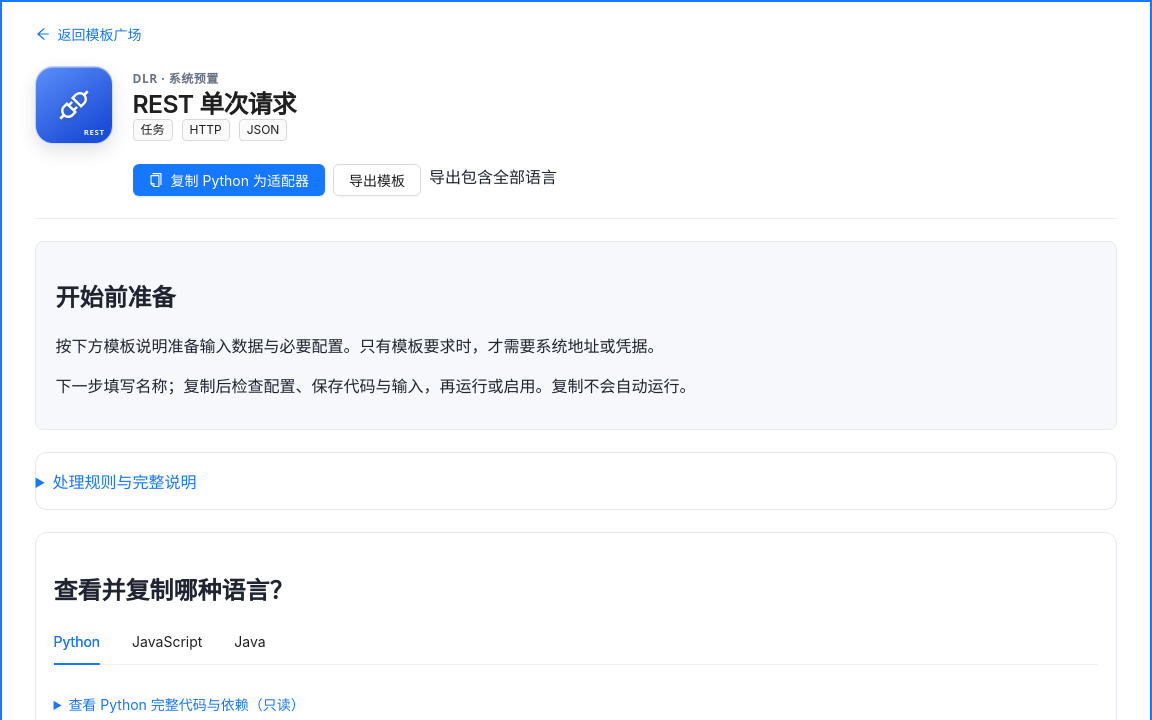
Scenario: Scenario detail and copy › keeps entered values after a general instantiate failure
The width and height of the screenshot is (1152, 720).
Click the button "复制 Python 为适配器" at [229, 180], box [132, 164, 325, 196]
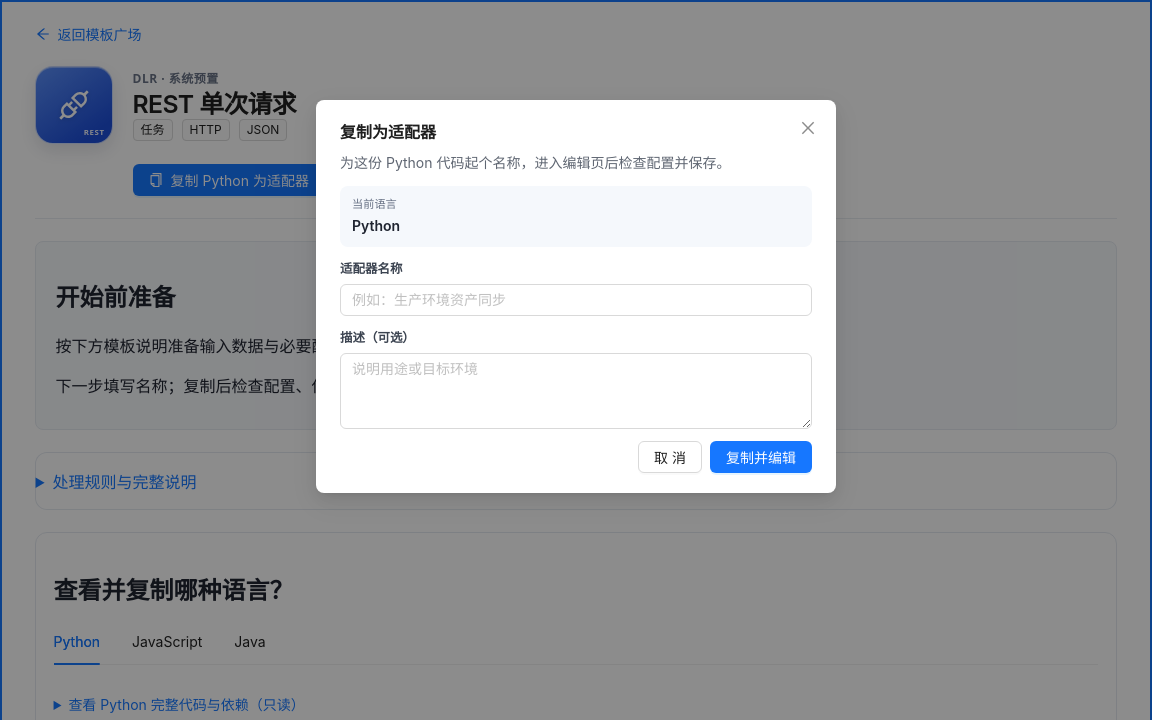
Type "稍后重试" into the field labelled "适配器名称" at [576, 300], box [340, 284, 812, 316]
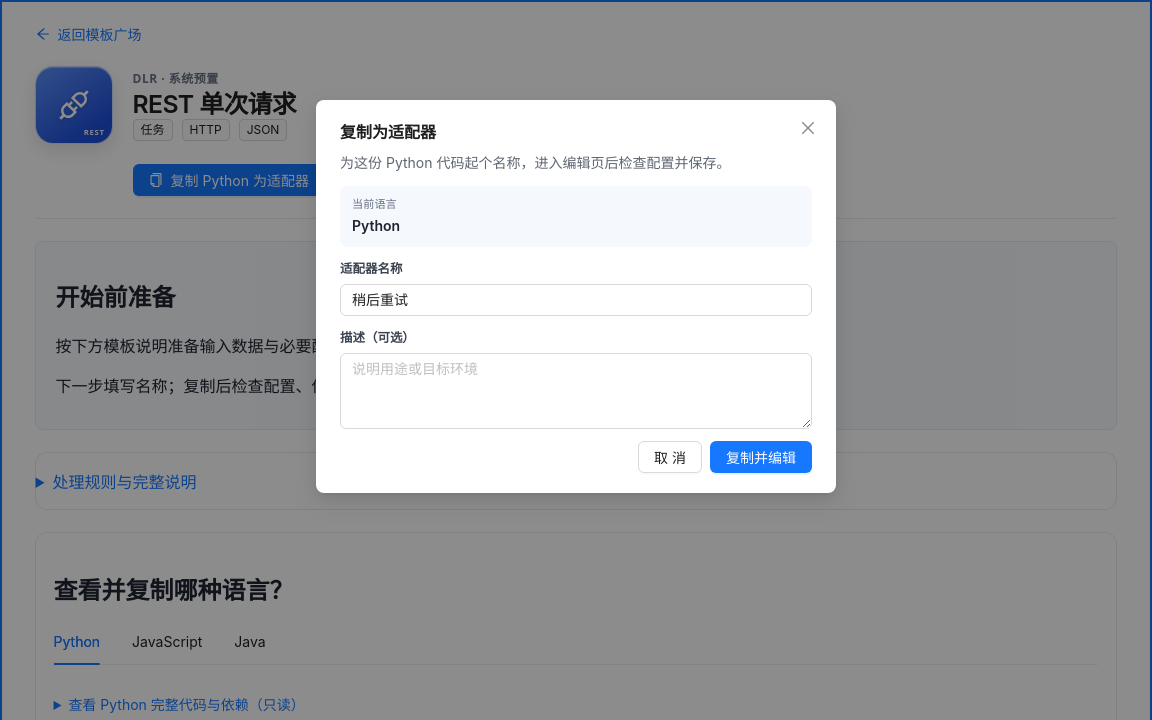
Click the button "复制并编辑" at [761, 456], box [710, 440, 812, 472]
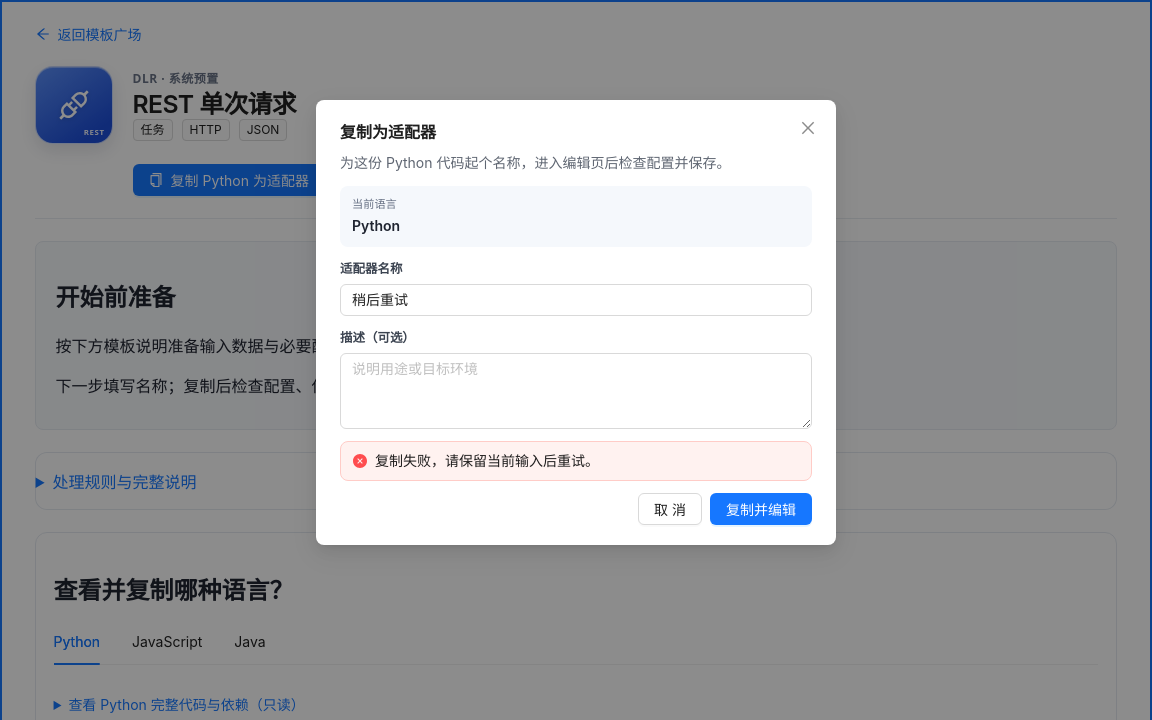
Expected: the dialog is shown, [316, 100, 836, 569]
Expected: the text "复制失败，请保留当前输入后重试。" is shown, [375, 452, 599, 468]
